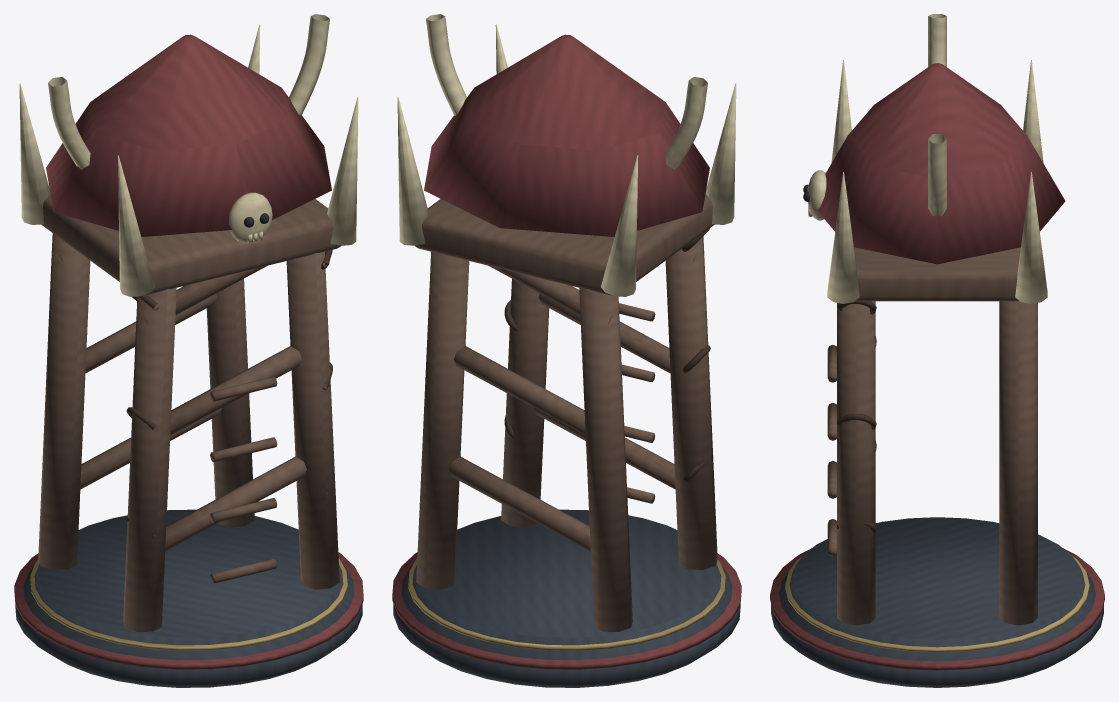
The model's file is orc_tower.glb.
3 renders of one model, left to right at view 1: azimuth 30°, elevation 25°; view 2: azimuth 150°, elevation 25°; view 3: azimuth 270°, elevation 25°, orthographic. The views are drawn at different scales.
Parts seen in each view (by area): view 1: CharacterMesh; view 2: CharacterMesh; view 3: CharacterMesh.
Part boxes in pixels (<box>): CharacterMesh: <box>14,14,363,687</box>; CharacterMesh: <box>392,14,741,687</box>; CharacterMesh: <box>770,14,1104,687</box>.
Bounding box in the file's own units: 0.784 × 1.44 × 0.784.
Materials: 7 (7 with a texture image).
